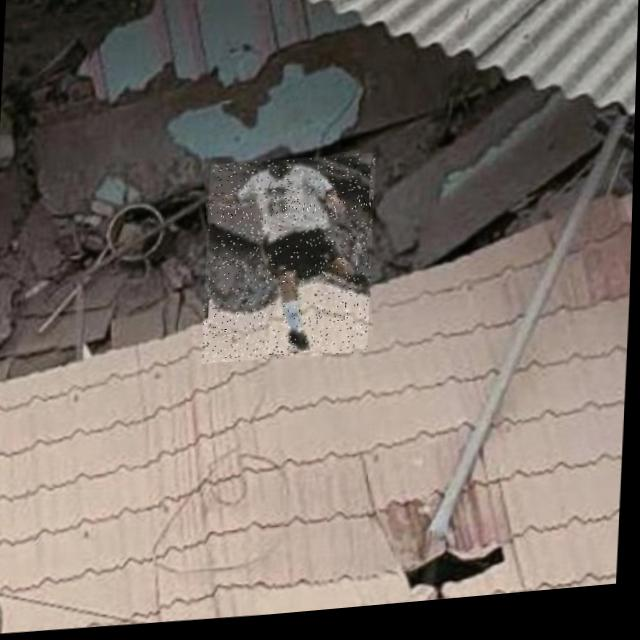Person in Rubble: (203, 156, 377, 370)
